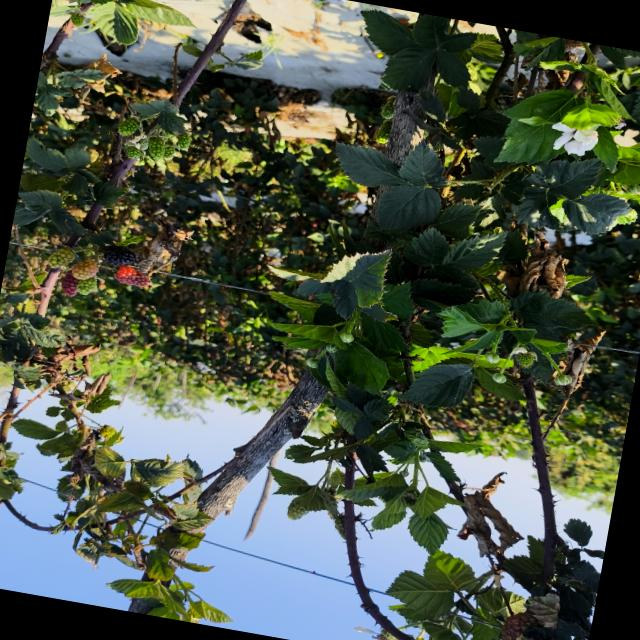boton: (554, 373, 572, 385), (339, 331, 354, 343), (491, 371, 506, 383), (483, 352, 499, 363), (326, 343, 338, 353), (306, 358, 317, 368)
flor: (552, 122, 598, 156)
maduro: (103, 245, 135, 265)
naranja: (114, 265, 149, 286), (61, 270, 79, 296)
verde: (47, 247, 75, 268), (72, 260, 98, 279), (147, 137, 165, 160), (75, 277, 97, 295), (117, 118, 139, 136), (176, 133, 190, 150), (125, 146, 142, 159), (163, 145, 176, 158)
